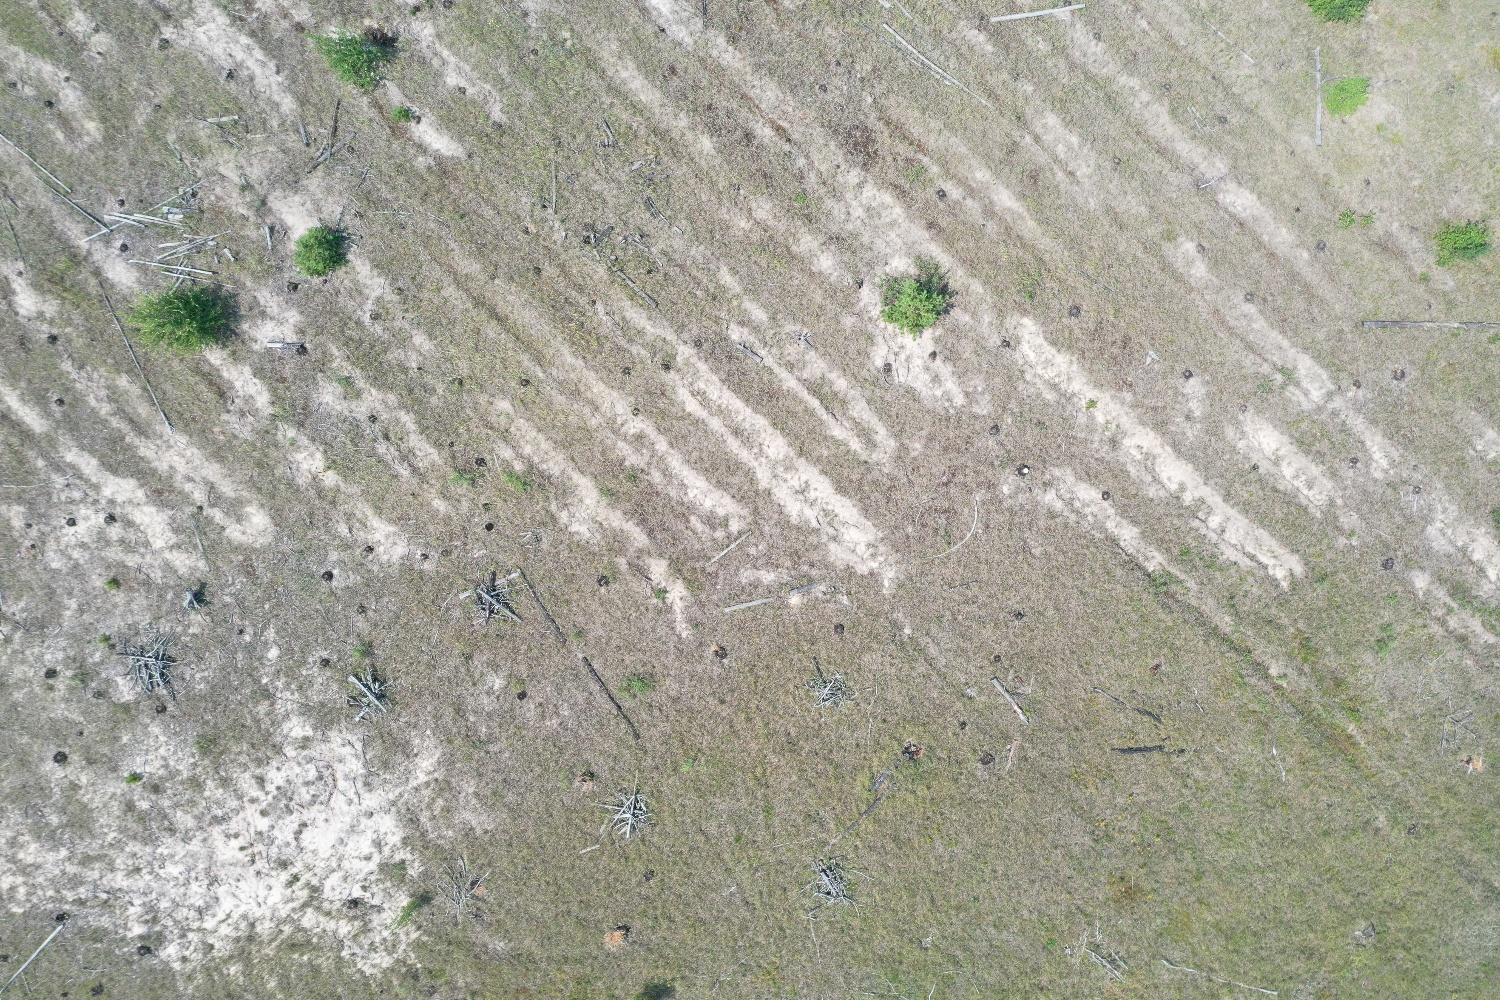branches: (114, 624, 184, 701), (592, 769, 653, 840), (804, 858, 874, 917), (460, 569, 521, 622), (346, 665, 400, 721), (806, 655, 855, 709)
